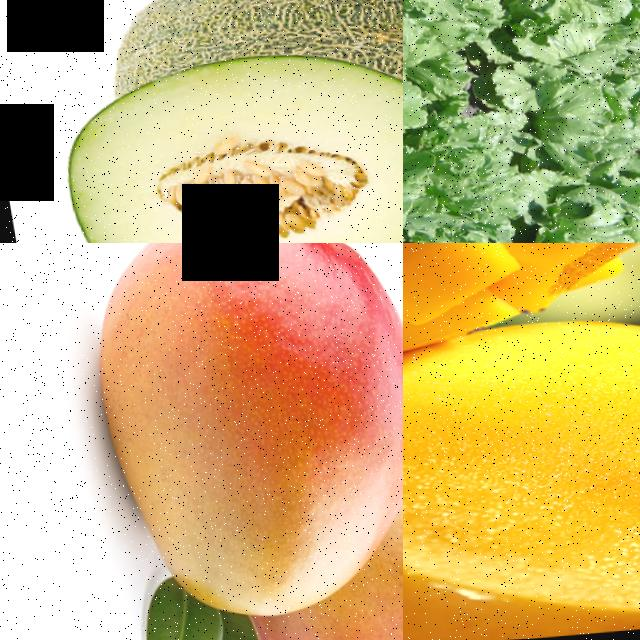lettuce: (515, 74, 609, 179), (421, 146, 524, 228), (403, 0, 478, 101), (522, 203, 636, 243), (511, 0, 628, 38), (609, 87, 640, 154)
mango: (68, 243, 403, 627), (403, 336, 640, 640), (238, 598, 403, 640)
melon: (41, 86, 403, 243), (77, 0, 403, 67)
